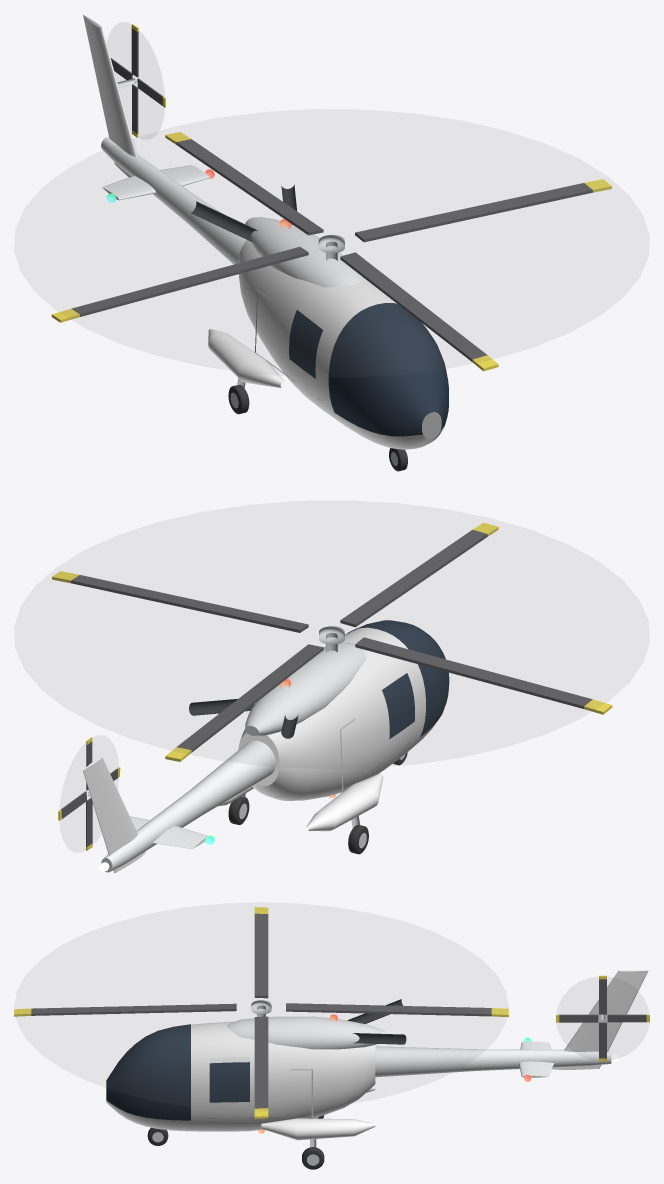
3 views of the same model, one above another, from view 1: azimuth 30°, elevation 25°; view 2: azimuth 150°, elevation 25°; view 3: azimuth 270°, elevation 25° (orthographic). The views are drawn at different scales.
Parts seen in each view (by area): view 1: airframe, rotor, tail; view 2: airframe, rotor, tail; view 3: airframe, rotor, tail.
Part boxes in pixels (bbox=[...]): airframe: bbox=[83, 15, 448, 471]; rotor: bbox=[51, 132, 611, 371]; tail: bbox=[110, 24, 166, 137]; airframe: bbox=[83, 620, 449, 873]; rotor: bbox=[52, 522, 612, 761]; tail: bbox=[58, 737, 120, 850]; airframe: bbox=[106, 970, 648, 1169]; rotor: bbox=[14, 907, 508, 1118]; tail: bbox=[556, 975, 649, 1061].
Size of the model in its own units: 17.2 by 6.85 by 22.11.
